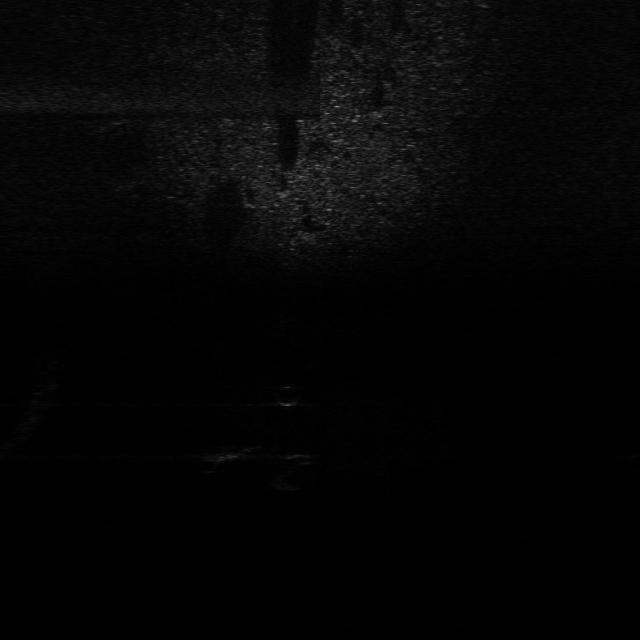ball: (276, 384, 303, 407)
square cage: (190, 441, 256, 466)
tyre: (266, 450, 323, 490)
